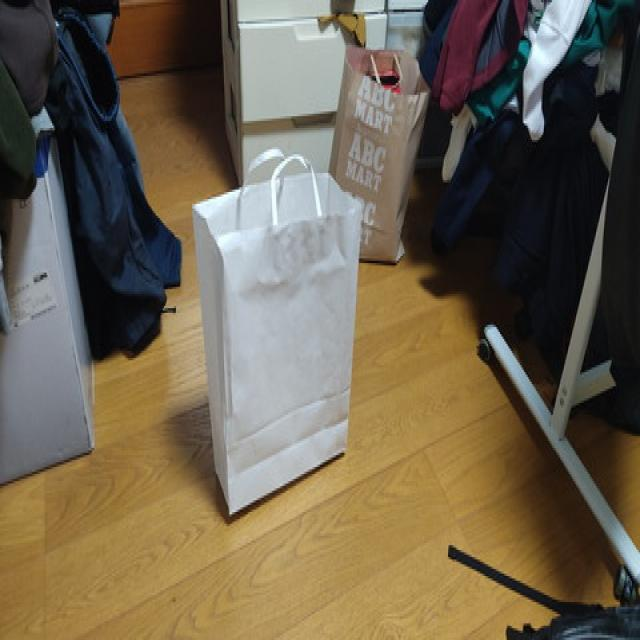paper bag: (192, 148, 362, 523), (322, 38, 413, 265)
